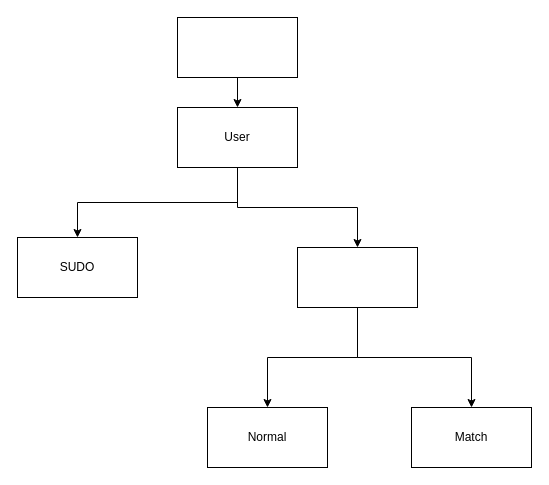
Image size: 549x485. Some labels were removed from this diagram. The centre of each missing label's shape, as x and y in pixels:
"Generic" belongs at point (357, 277).
"Sess" belongs at point (237, 47).
